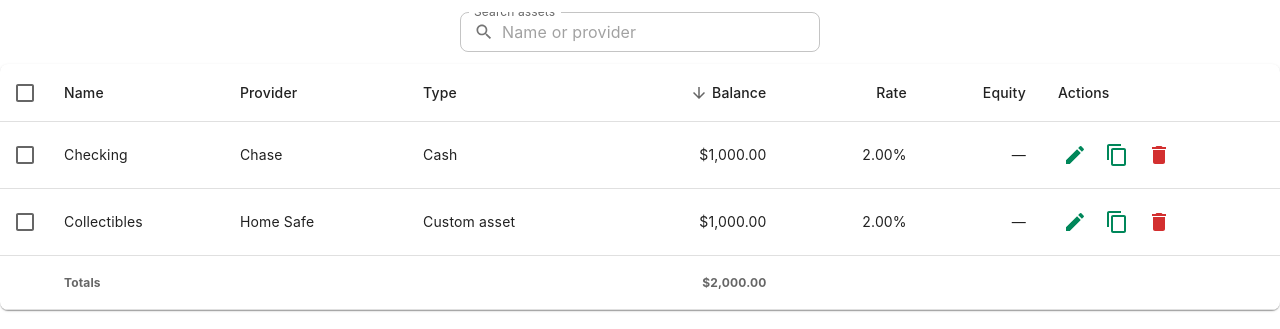
AssetTable (shared HoldingTable config) › shows a no-match message when the query matches nothing
Type "zzz" into the field labelled "Search assets". click: (661, 32)
box: x1=502 y1=12 x2=820 y2=52
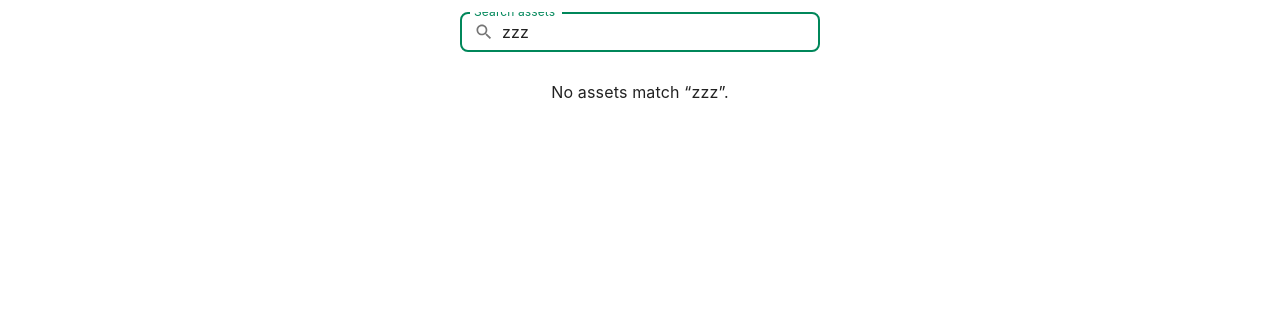
Expected: the text "No assets match “zzz”." is shown, x1=551 y1=82 x2=729 y2=102
